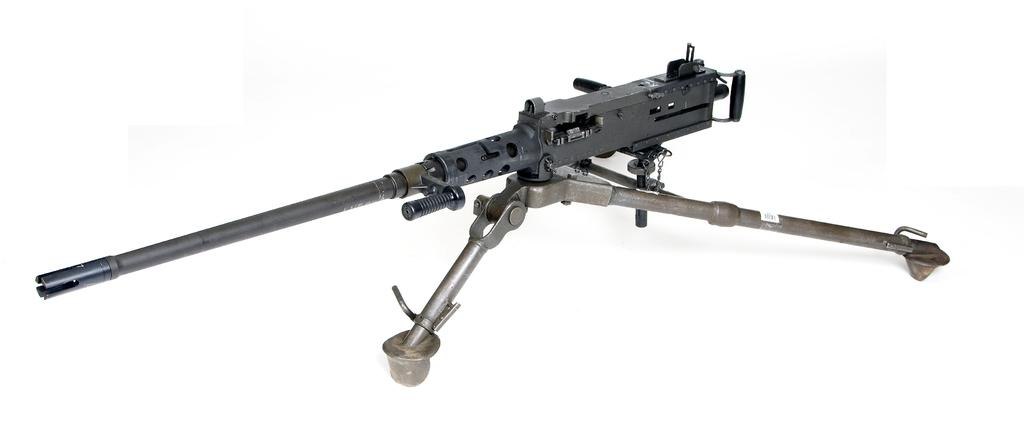Rifle: (31, 47, 749, 385)
